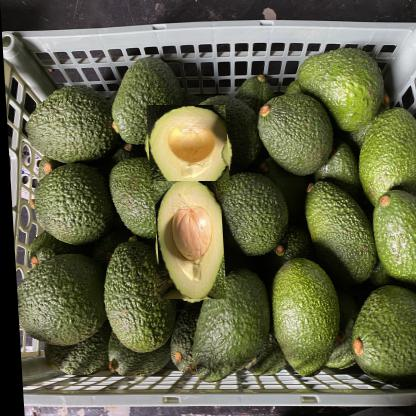avocado: (150, 180, 224, 300), (143, 106, 231, 190)
